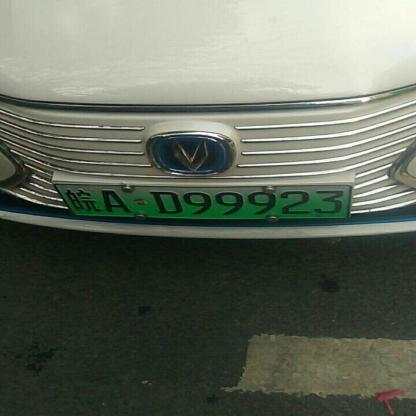lp: (56, 184, 74, 215)
